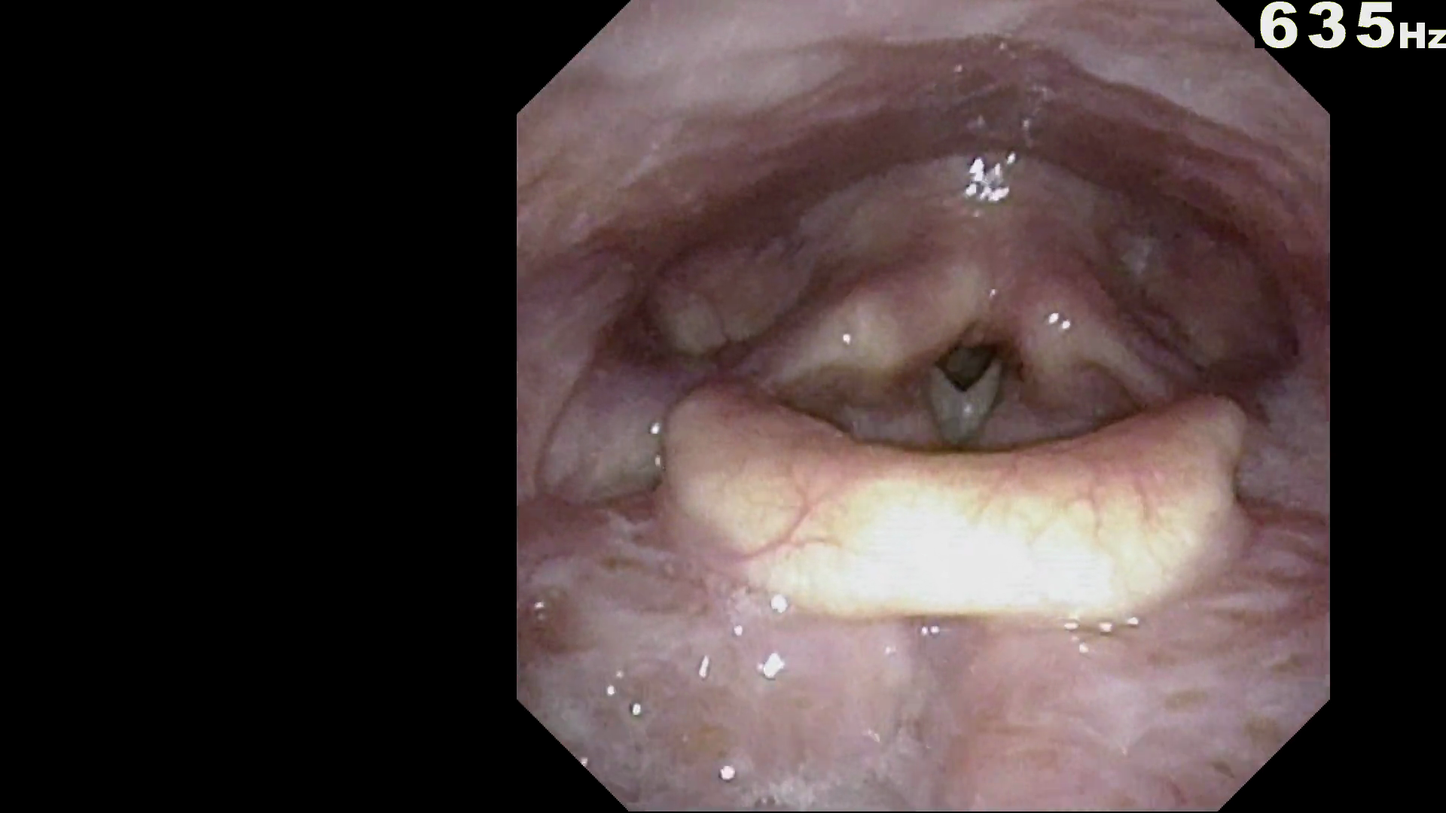epiglottis: (655, 388, 1243, 633)
trachea: (914, 329, 1005, 452)
